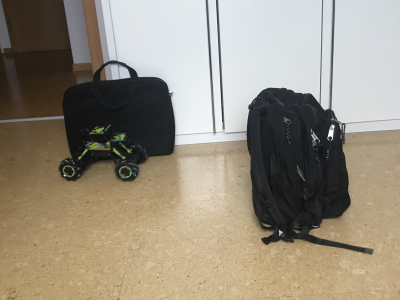remote control car: (56, 122, 148, 184)
